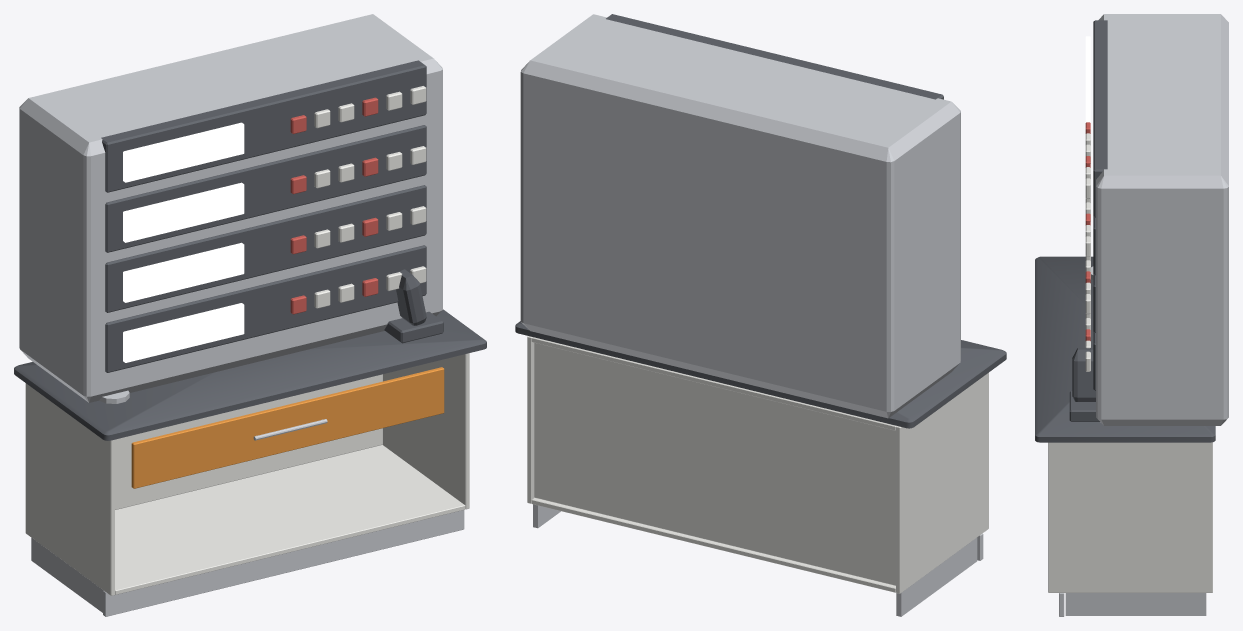
Rendered from offshore-oil-rig-and-platform-radio-desk-ff5e80d0__37045.glb.
3 renders of one model, left to right at view 1: azimuth 30°, elevation 25°; view 2: azimuth 150°, elevation 25°; view 3: azimuth 270°, elevation 25°, orthographic. The views are drawn at different scales.
Visible parts, largest first — view 1: radio-desk, radio-drawer/paint; view 2: radio-desk; view 3: radio-desk.
Boxes of the visible parts, left/top/right/bottom form: radio-desk: left=14, top=14, right=486, bottom=616; radio-drawer/paint: left=131, top=367, right=444, bottom=488; radio-desk: left=515, top=14, right=1006, bottom=616; radio-desk: left=1035, top=14, right=1228, bottom=616.
Size of the model in its own units: 1.6 by 1.82 by 0.7299.
